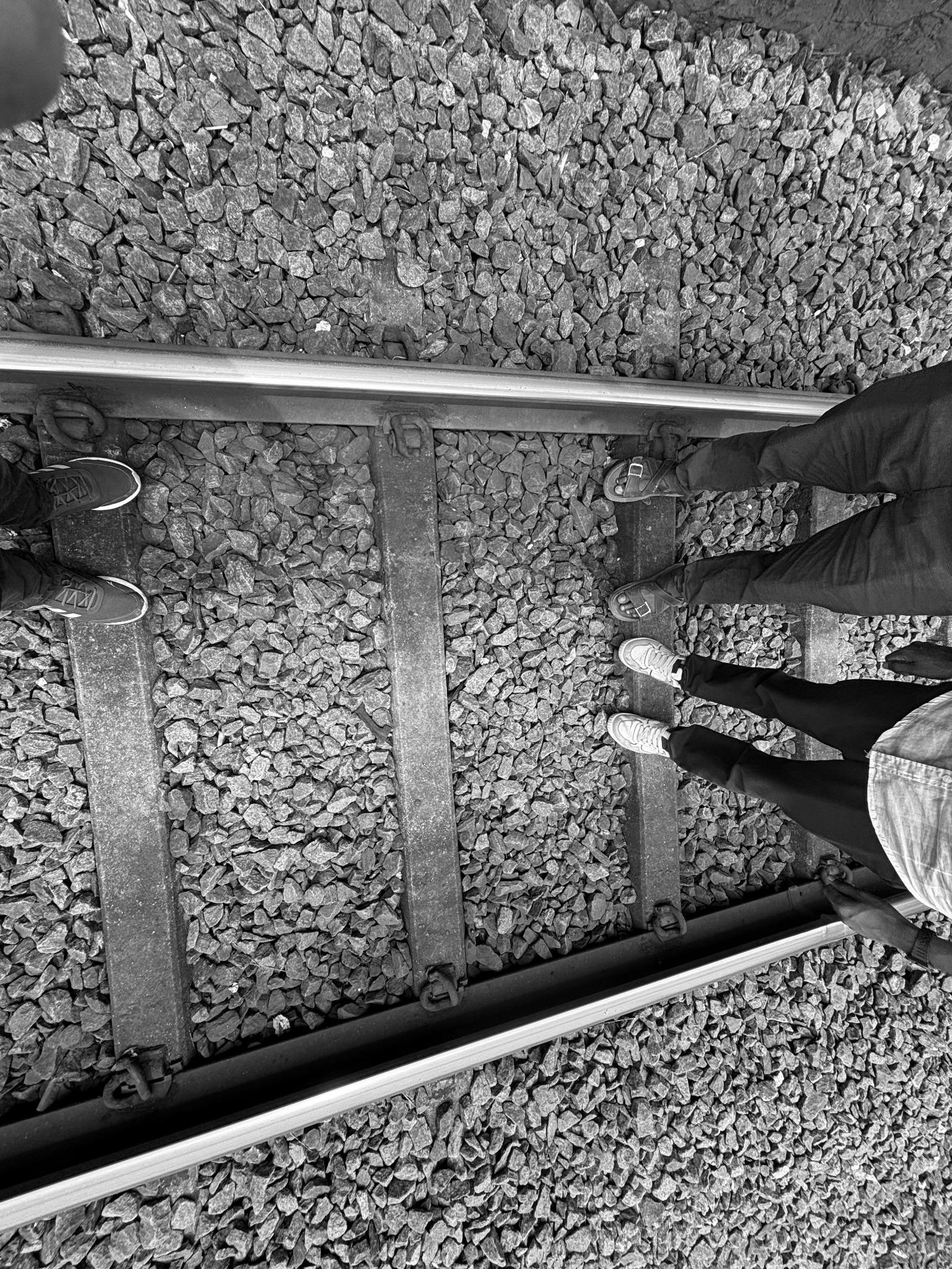cracks under rail seat: (393, 455, 455, 602)
